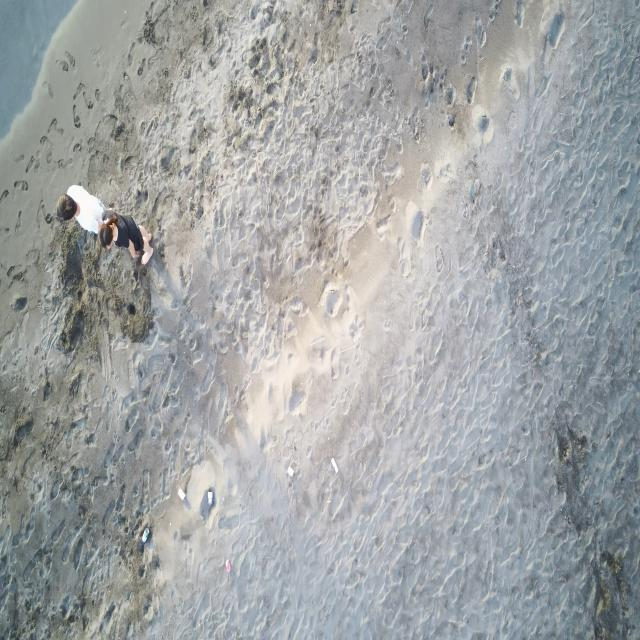Garbage: (200, 487, 215, 519), (136, 527, 150, 552), (178, 487, 190, 507), (140, 528, 148, 543), (224, 559, 231, 572), (207, 488, 212, 506), (331, 456, 336, 472), (178, 487, 184, 500), (287, 466, 292, 476)
